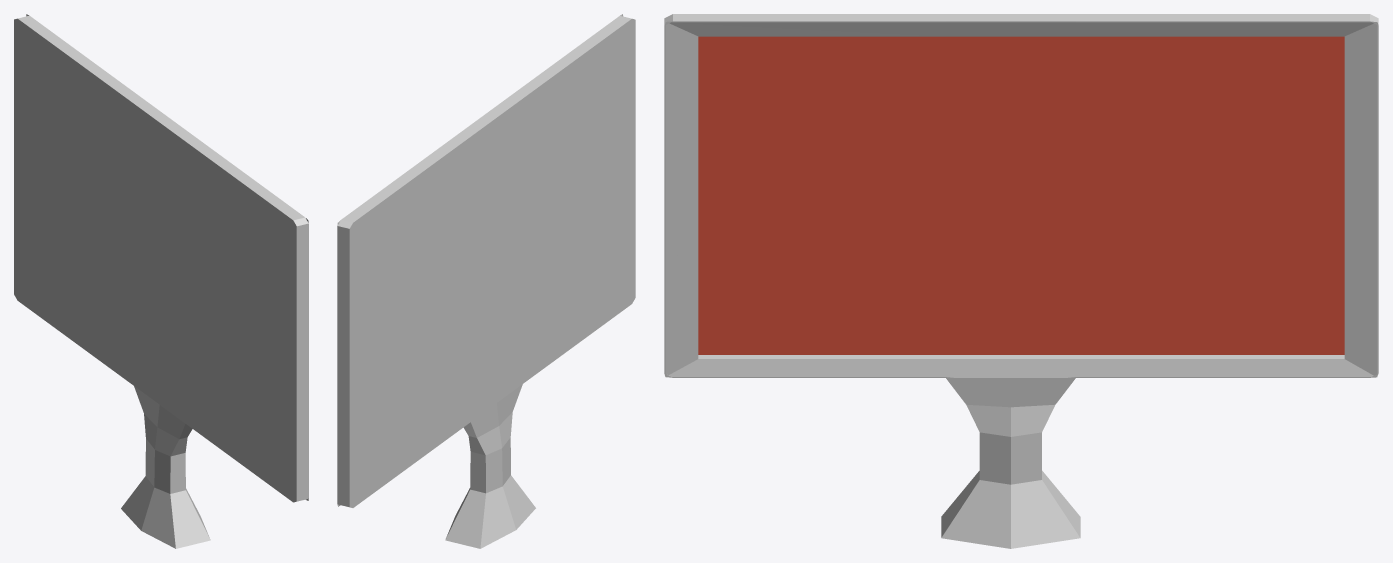
The picture shows the model from 3 angles, left to right: view 1: azimuth 30°, elevation 25°; view 2: azimuth 150°, elevation 25°; view 3: azimuth 270°, elevation 25°; orthographic projection. The views are drawn at different scales.
Parts seen in each view (by area): view 1: Cube; view 2: Cube; view 3: Cube.
Boxes of the visible parts, left/top/right/bottom form: Cube: left=14, top=14, right=308, bottom=548; Cube: left=337, top=14, right=635, bottom=548; Cube: left=664, top=14, right=1378, bottom=548.
Bounding box in the file's own units: 122 × 785 × 997.
